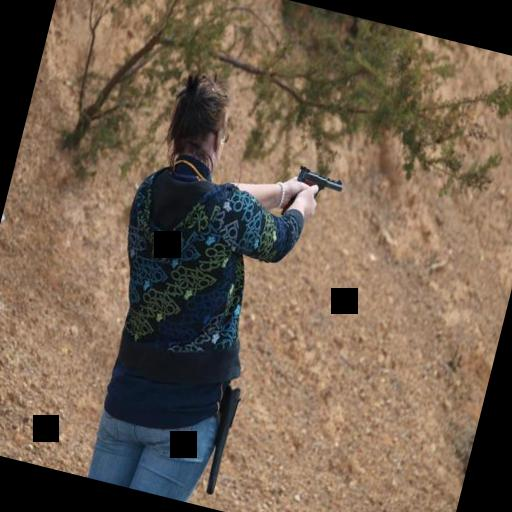Handgun: (284, 158, 352, 214)
